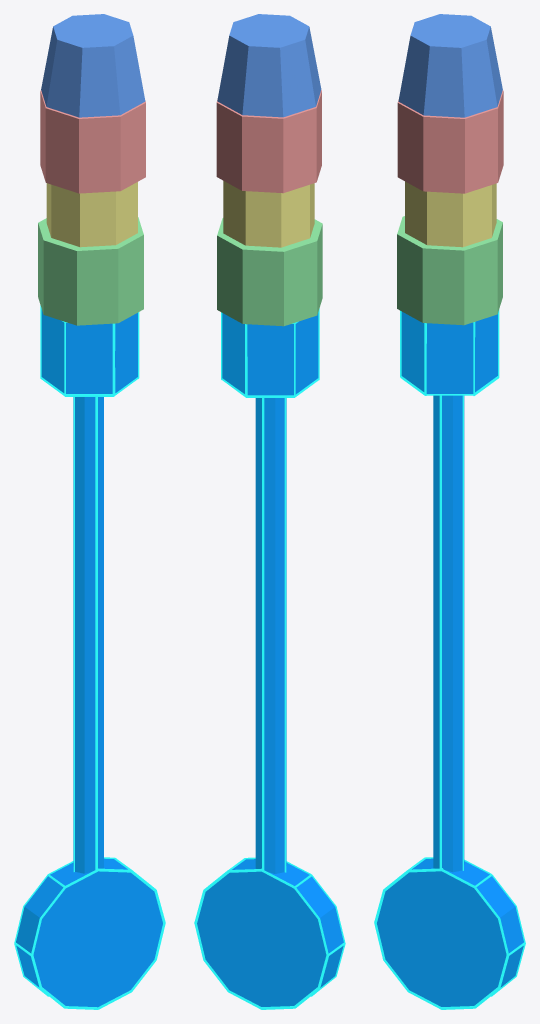
File: Light.fbx
3 views of the same model, side by side, from view 1: azimuth 30°, elevation 25°; view 2: azimuth 150°, elevation 25°; view 3: azimuth 330°, elevation 25° (orthographic).
Parts seen in each view (by area): view 1: 柱体_002, 蓝色, 绿色, 红色, 黄色; view 2: 柱体_002, 蓝色, 绿色, 红色, 黄色; view 3: 柱体_002, 蓝色, 绿色, 红色, 黄色.
Part boxes in pixels (x1=…): 柱体_002: x1=14, y1=305, x2=165, y2=1009; 蓝色: x1=41, y1=14, x2=145, y2=117; 绿色: x1=38, y1=217, x2=143, y2=325; 红色: x1=40, y1=90, x2=145, y2=193; 黄色: x1=46, y1=182, x2=137, y2=247; 柱体_002: x1=194, y1=308, x2=345, y2=1009; 蓝色: x1=217, y1=14, x2=321, y2=117; 绿色: x1=217, y1=218, x2=322, y2=326; 红色: x1=216, y1=90, x2=321, y2=193; 黄色: x1=223, y1=181, x2=314, y2=247; 柱体_002: x1=374, y1=309, x2=525, y2=1009; 蓝色: x1=398, y1=14, x2=502, y2=117; 绿色: x1=397, y1=216, x2=502, y2=325; 红色: x1=397, y1=90, x2=503, y2=193; 黄色: x1=405, y1=181, x2=496, y2=247.
Size of the model in its own units: 7.35 by 50.65 by 5.24.
